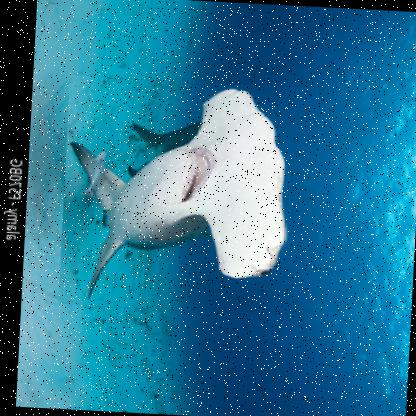hammerhead_Shark: (57, 72, 318, 316)
